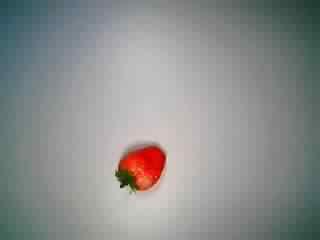strawberry: (108, 136, 176, 200)
